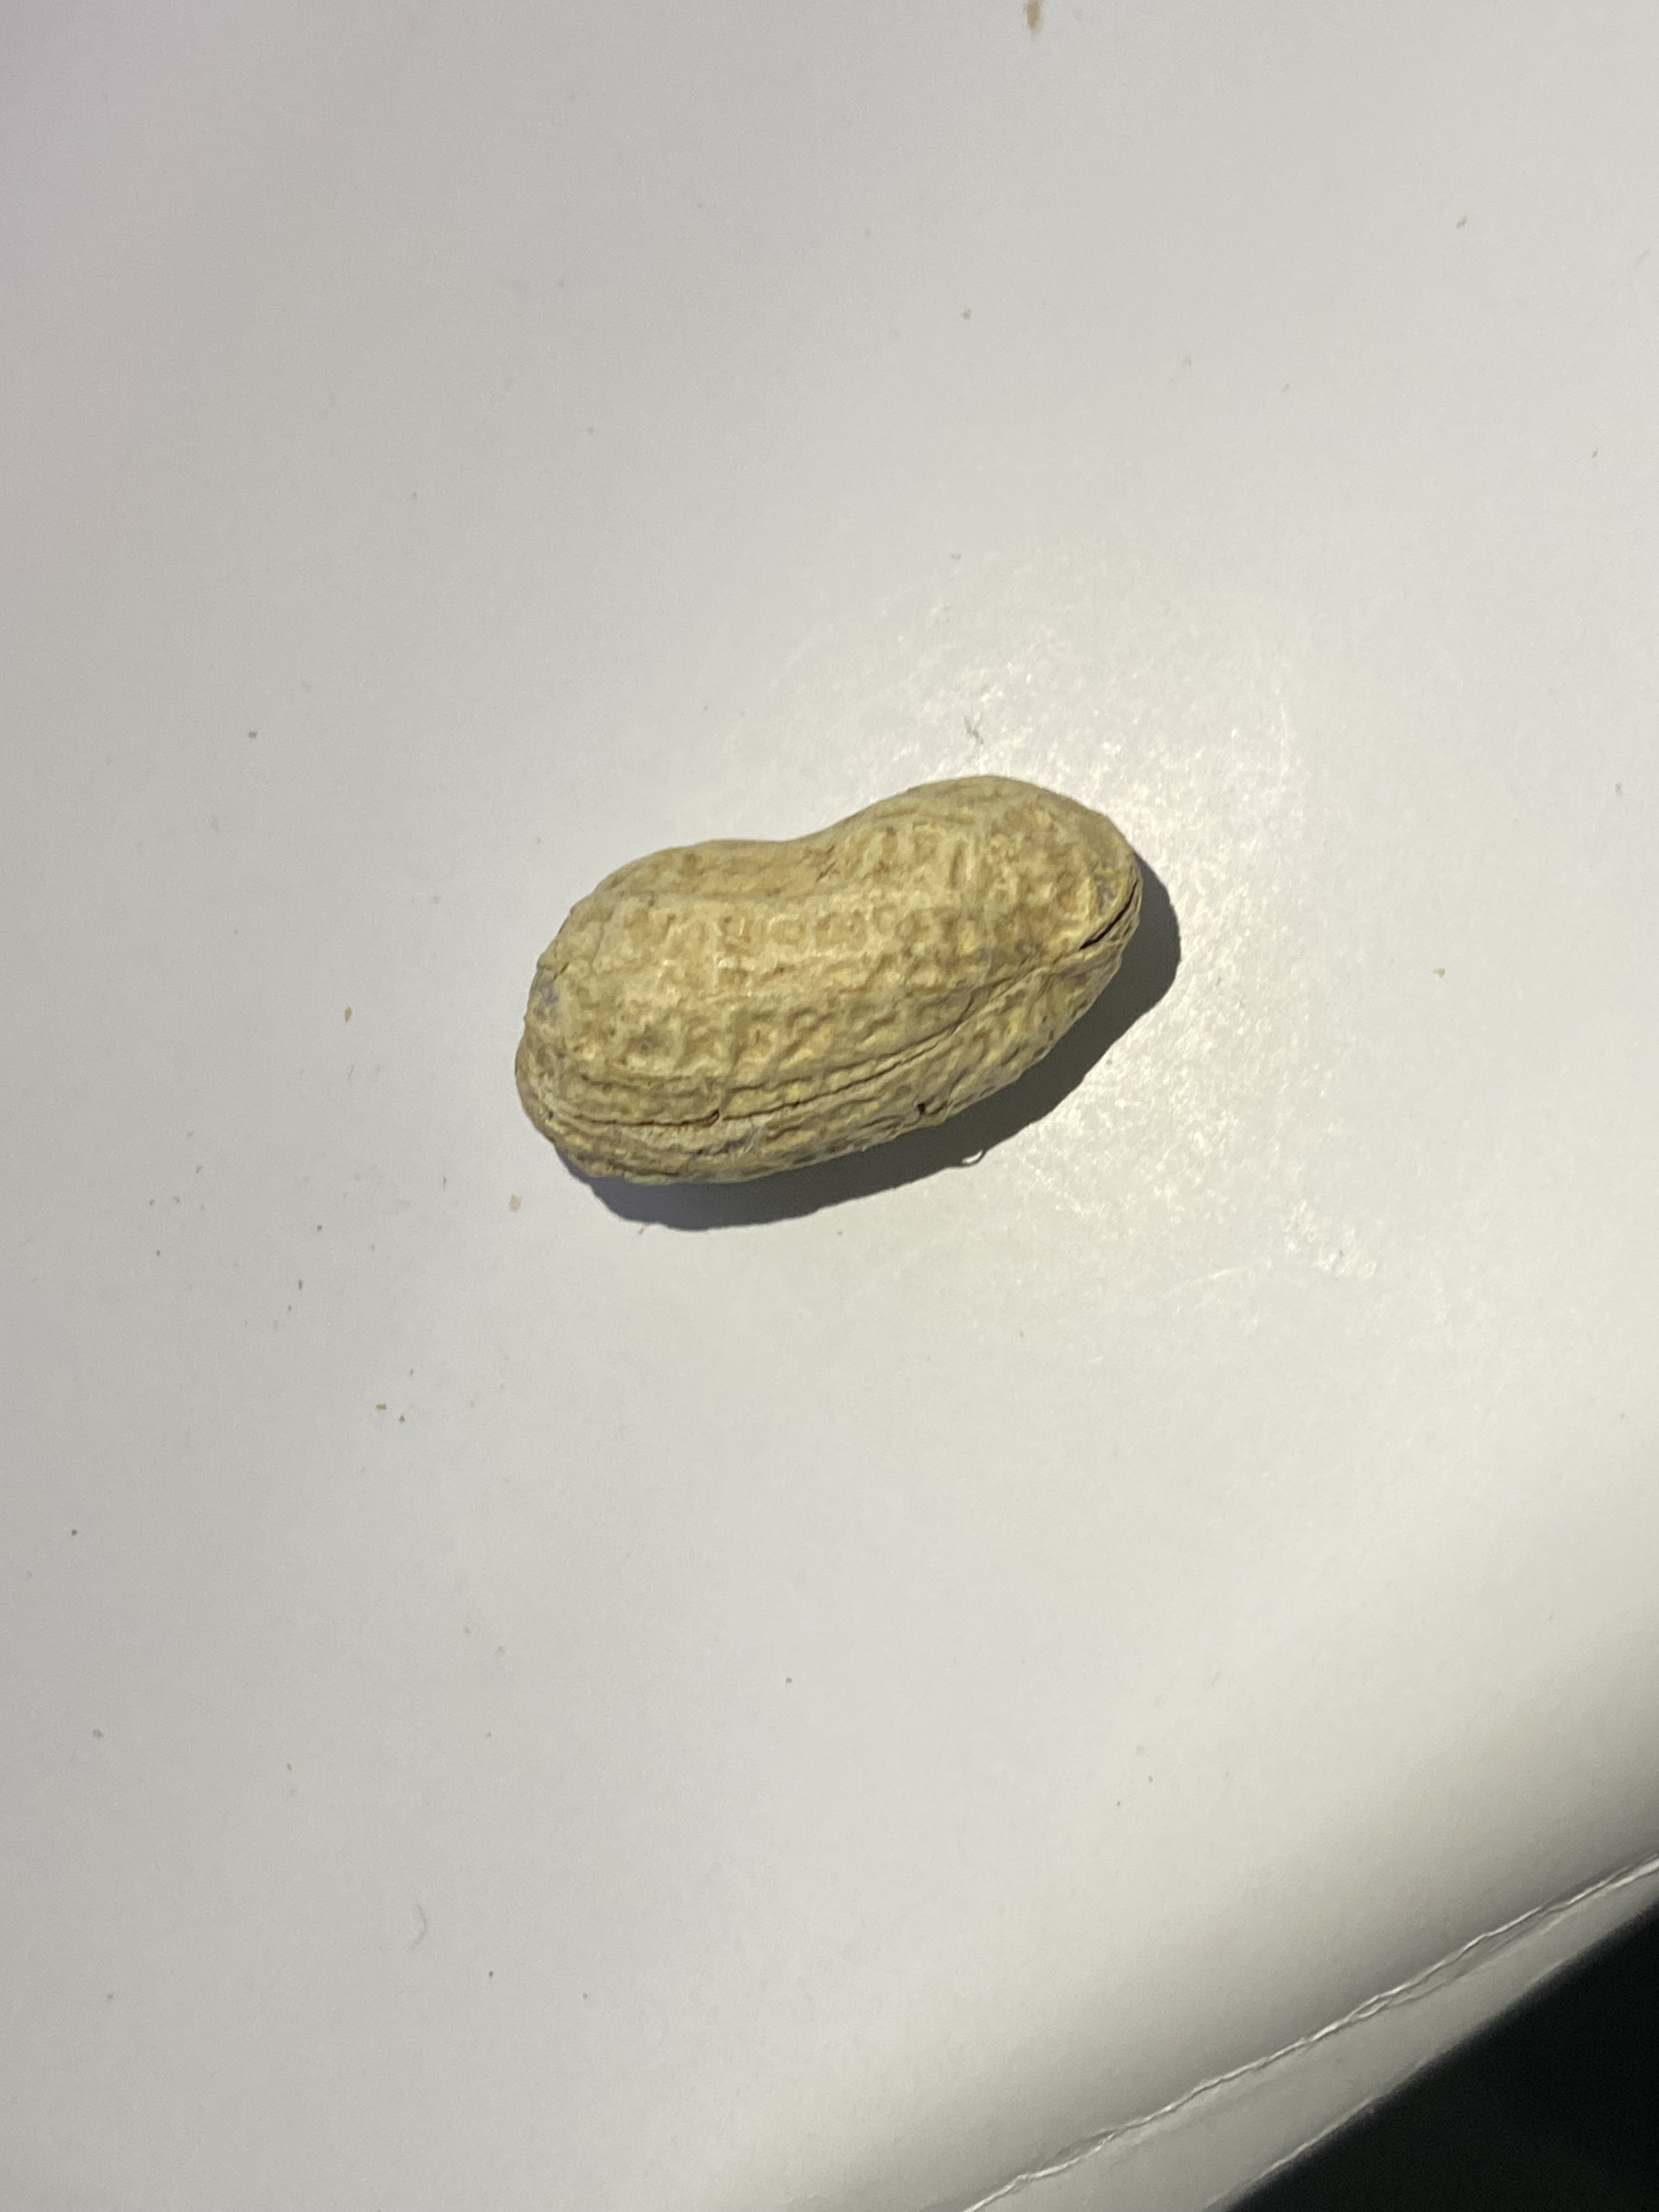kacang2: (471, 695, 1253, 1223)
